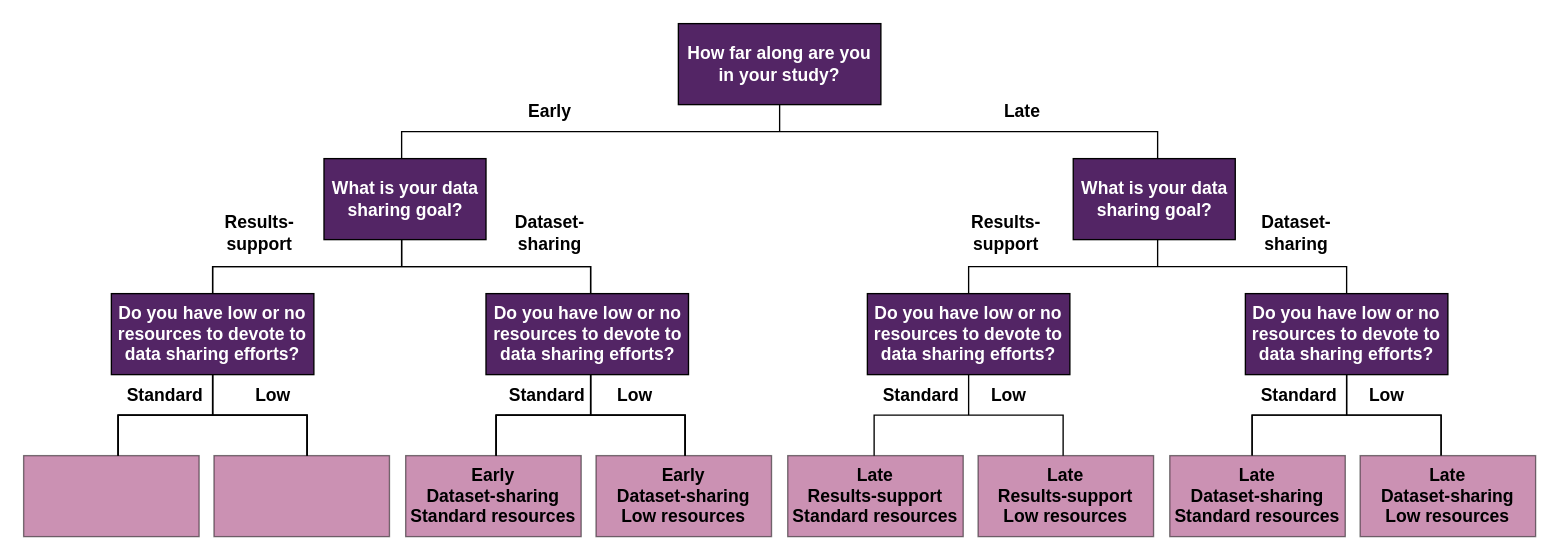
The diagram is 1559 pixels wide and 560 high, and some of its shapes have lost their labels. The centre of each missing label's shape, as x and y in pixels:
"Early Results-support Low resources" goes at pixel 301 495.
"Early Results-support Standard resources" goes at pixel 110 495.
